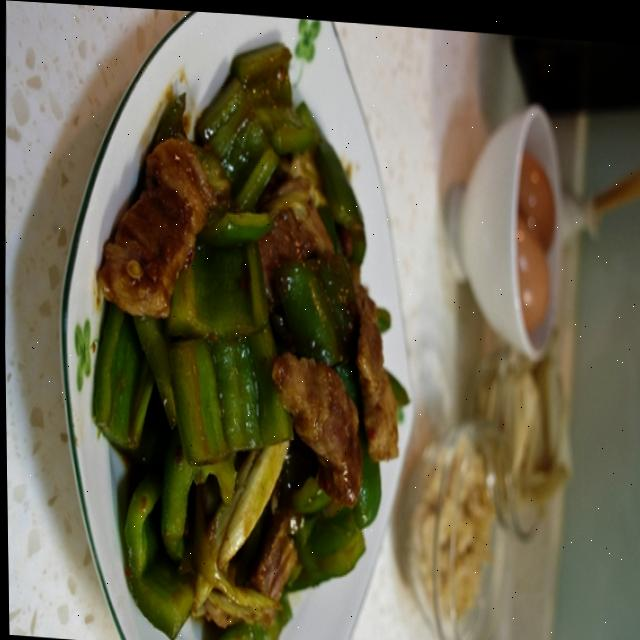猪肉菜式: (72, 13, 438, 640)
